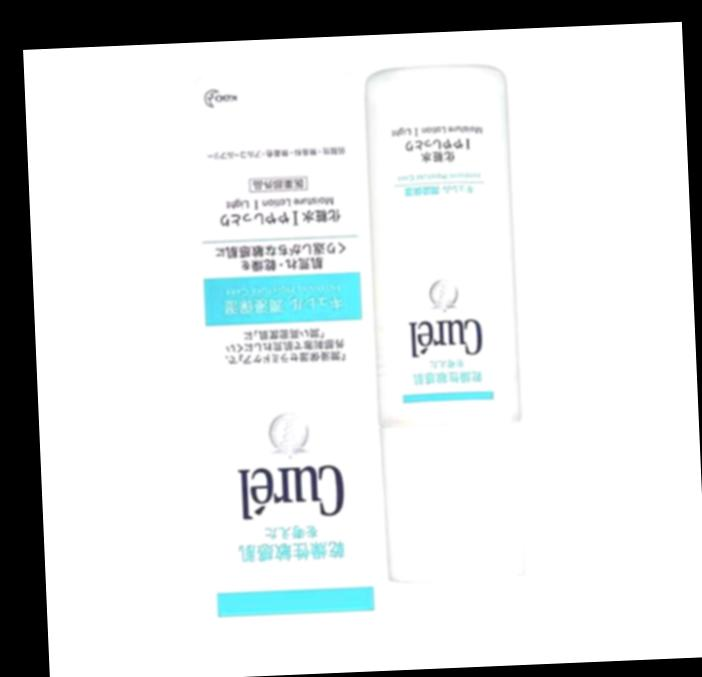cosmetic: (361, 76, 527, 583)
